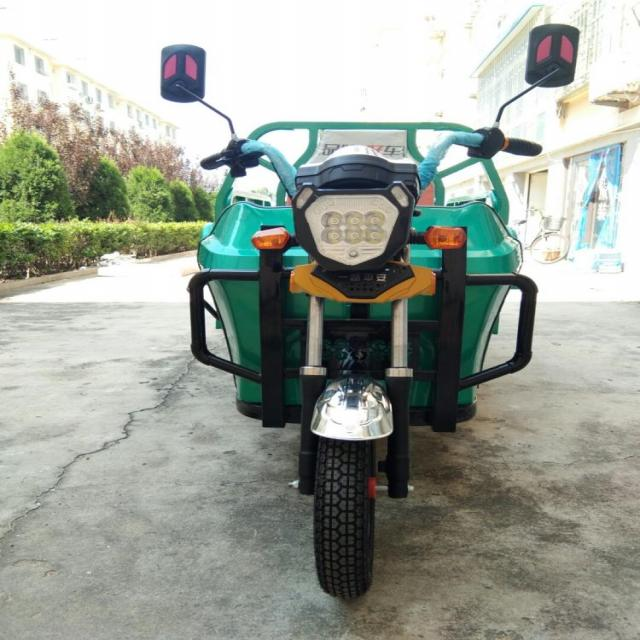bicycle: (514, 207, 569, 262)
tricycle: (154, 23, 582, 597)
